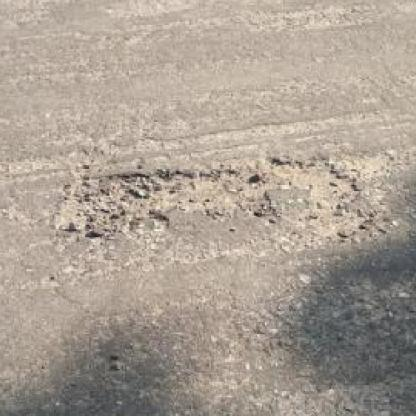pothole: (48, 153, 366, 240)
